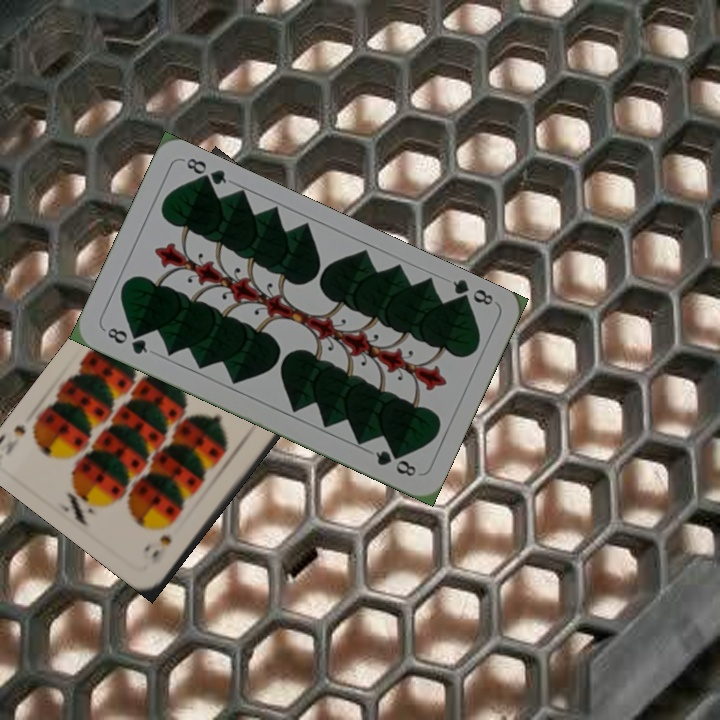G8: (448, 275, 496, 310), (103, 323, 151, 357)
S10: (146, 529, 175, 568)
